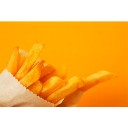frenchfries: (8, 42, 120, 97)
